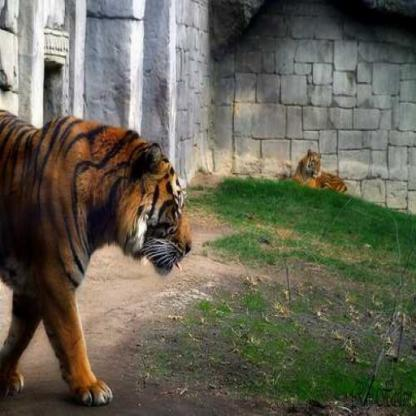Tiger: (0, 107, 223, 415)
